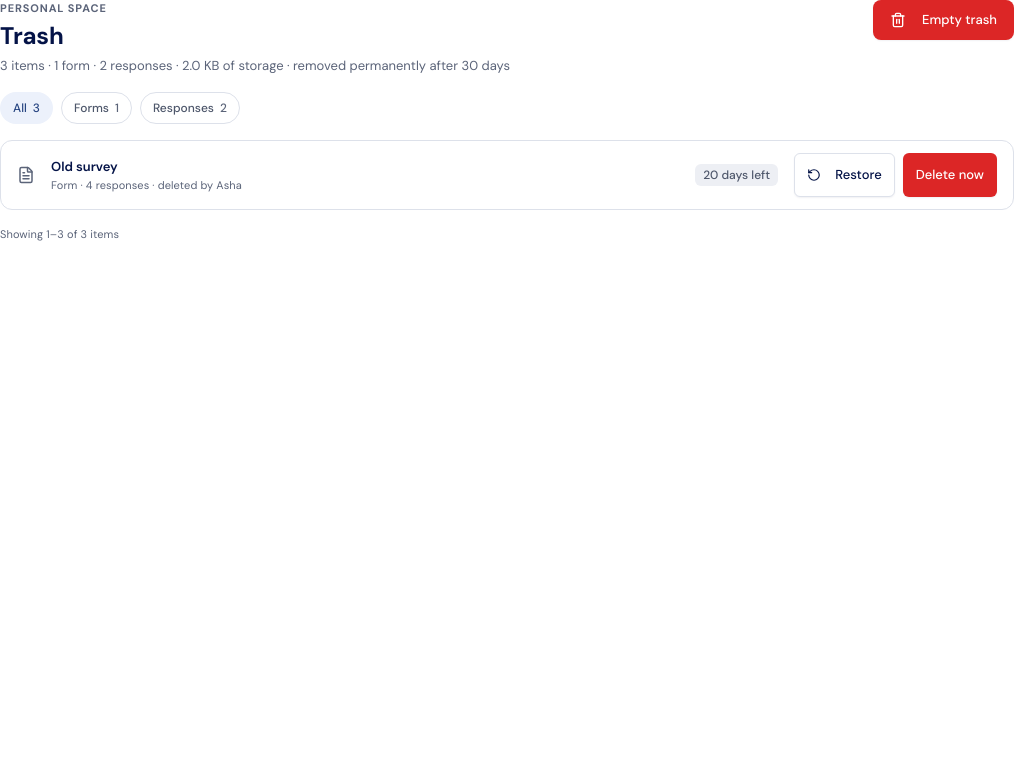
it: TrashView › on a filtered tab the empty-trash dialog does not claim an exact count
The width and height of the screenshot is (1024, 768).
Expected: the text "Old survey" is shown, [51,158,118,175]
What coordinates should you click on to do the following:
click the button "Forms 1"
I would click on:
 (96, 108)
Its box is [61,92,132,124].
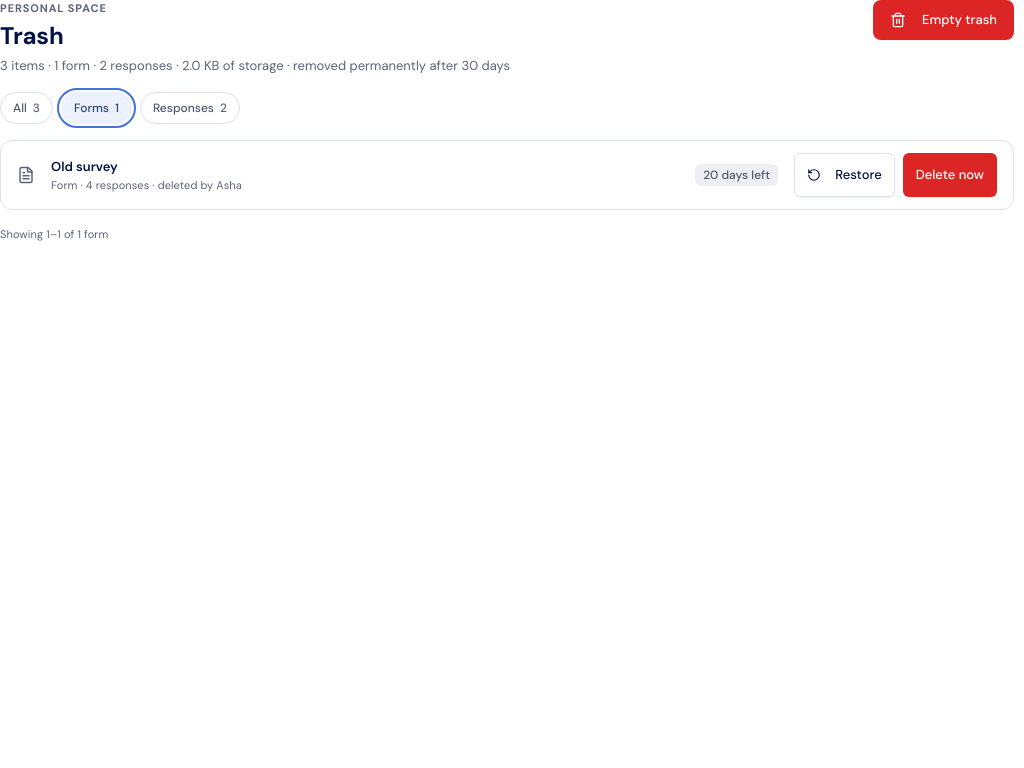
What coordinates should you click on to do the following:
click the button "Empty trash"
I would click on:
 (944, 20)
Its box is [873,0,1014,40].
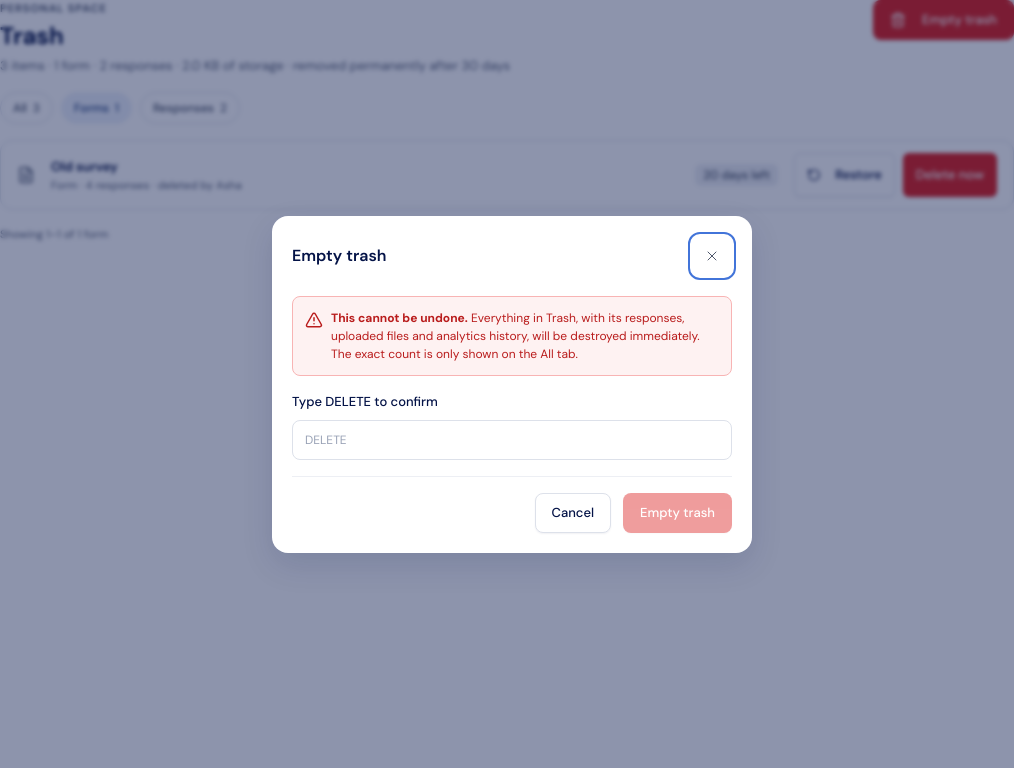
Expected: the dialog shows "exact count is only shown on the All tab", [331,310,700,362]
